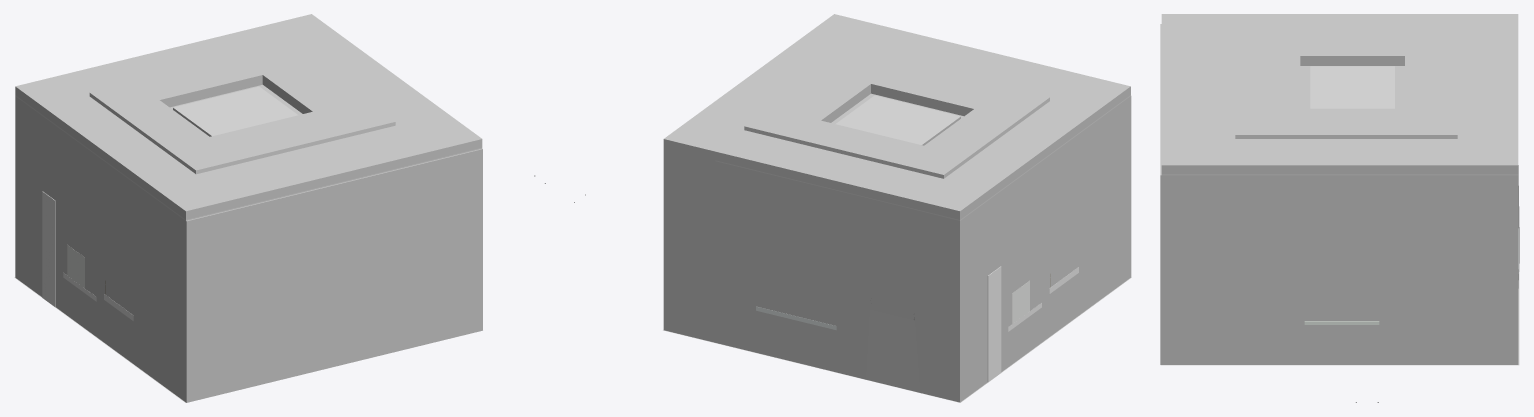
Rendered from LAB DE TINTAS .fbx.
3 views of the same model, side by side, from view 1: azimuth 30°, elevation 25°; view 2: azimuth 150°, elevation 25°; view 3: azimuth 270°, elevation 25° (orthographic). The views are drawn at different scales.
Parts seen in each view (by area): view 1: HABITACION, ARMARIO, IMPRESORA; view 2: HABITACION, ARMARIO, IMPRESORA, PISO; view 3: HABITACION, PISO.
Boxes of the visible parts, bbox=[...] form: HABITACION: bbox=[15, 14, 482, 402]; ARMARIO: bbox=[42, 191, 55, 307]; IMPRESORA: bbox=[67, 245, 84, 288]; HABITACION: bbox=[663, 14, 1131, 402]; ARMARIO: bbox=[987, 266, 1001, 382]; IMPRESORA: bbox=[1012, 280, 1029, 323]; PISO: bbox=[663, 277, 1131, 402]; HABITACION: bbox=[1160, 14, 1519, 364]; PISO: bbox=[1161, 272, 1519, 365].
Size of the model in its own units: 10.35 by 4.25 by 6.79.
79 materials, 13 textured.
